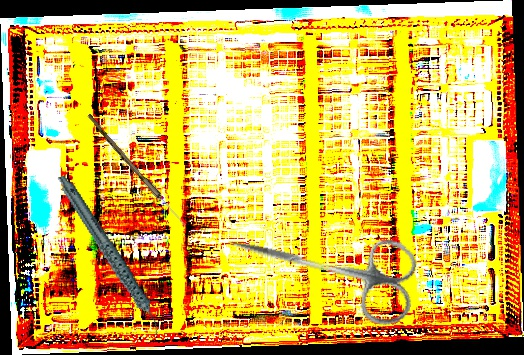Handpiece: (56, 161, 163, 350)
Iris Scissors: (217, 204, 425, 331)
Surgical Spoon: (84, 113, 189, 228)
